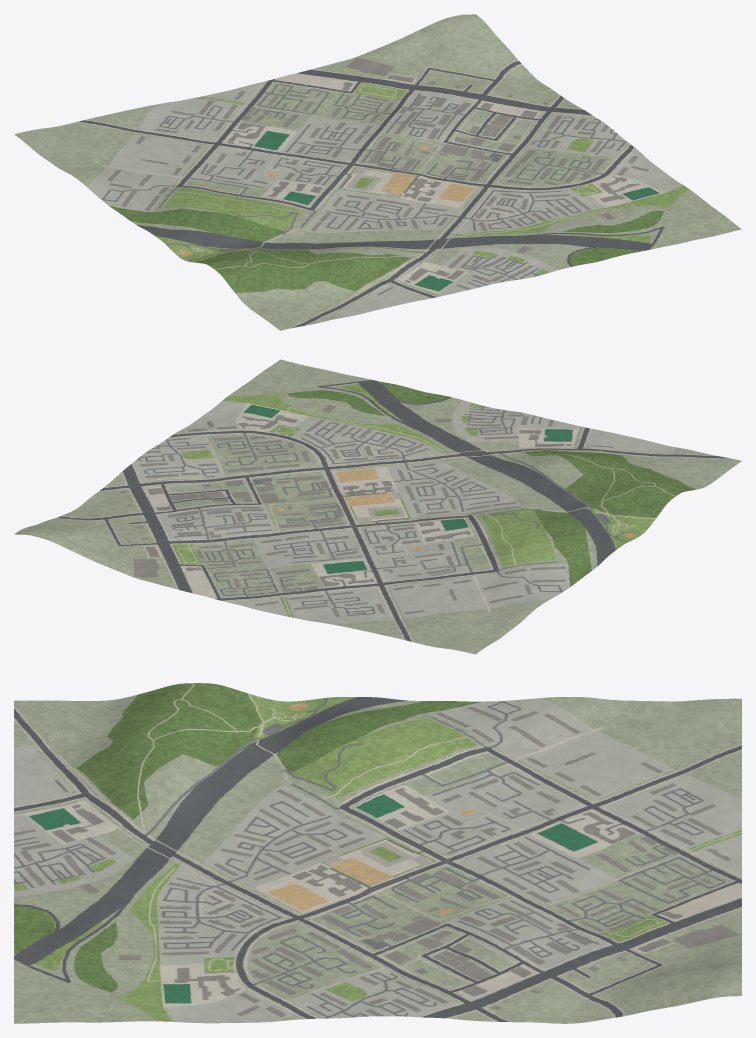
3 views of the same model, one above another, from view 1: azimuth 30°, elevation 25°; view 2: azimuth 150°, elevation 25°; view 3: azimuth 270°, elevation 25° (orthographic). The views are drawn at different scales.
Parts seen in each view (by area): view 1: ground-area, ground-school; view 2: ground-area, ground-school; view 3: ground-area, ground-school.
Boxes of the visible parts, <box> form: ground-area: <box>14,14,741,330</box>; ground-school: <box>303,152,452,213</box>; ground-area: <box>14,359,741,654</box>; ground-school: <box>303,477,452,538</box>; ground-area: <box>14,683,741,1023</box>; ground-school: <box>303,828,452,896</box>.
Bounding box in the file's own units: 1088 × 56.28 × 1088.
2 materials, 2 textured.
